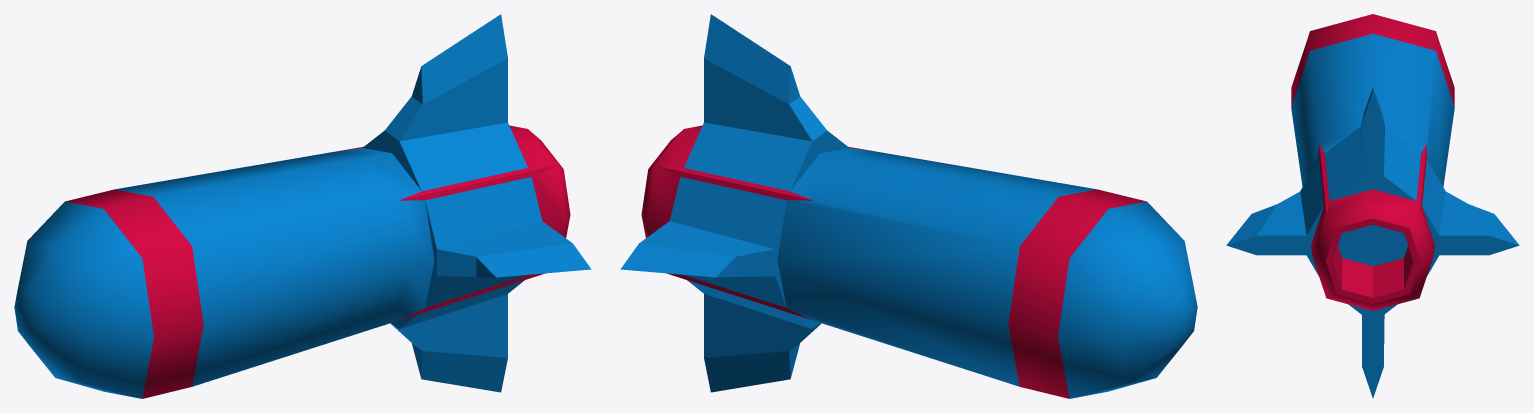
The model's file is Missile.fbx.
3 views of the same model, side by side, from view 1: azimuth 30°, elevation 25°; view 2: azimuth 150°, elevation 25°; view 3: azimuth 270°, elevation 25° (orthographic). The views are drawn at different scales.
Visible parts, largest first — view 1: Cube; view 2: Cube; view 3: Cube.
Boxes of the visible parts, left/top/right/bottom form: Cube: left=14, top=14, right=591, bottom=398; Cube: left=620, top=14, right=1197, bottom=398; Cube: left=1226, top=14, right=1519, bottom=398.
Size of the model in its own units: 6.91 by 4.83 by 4.18.
